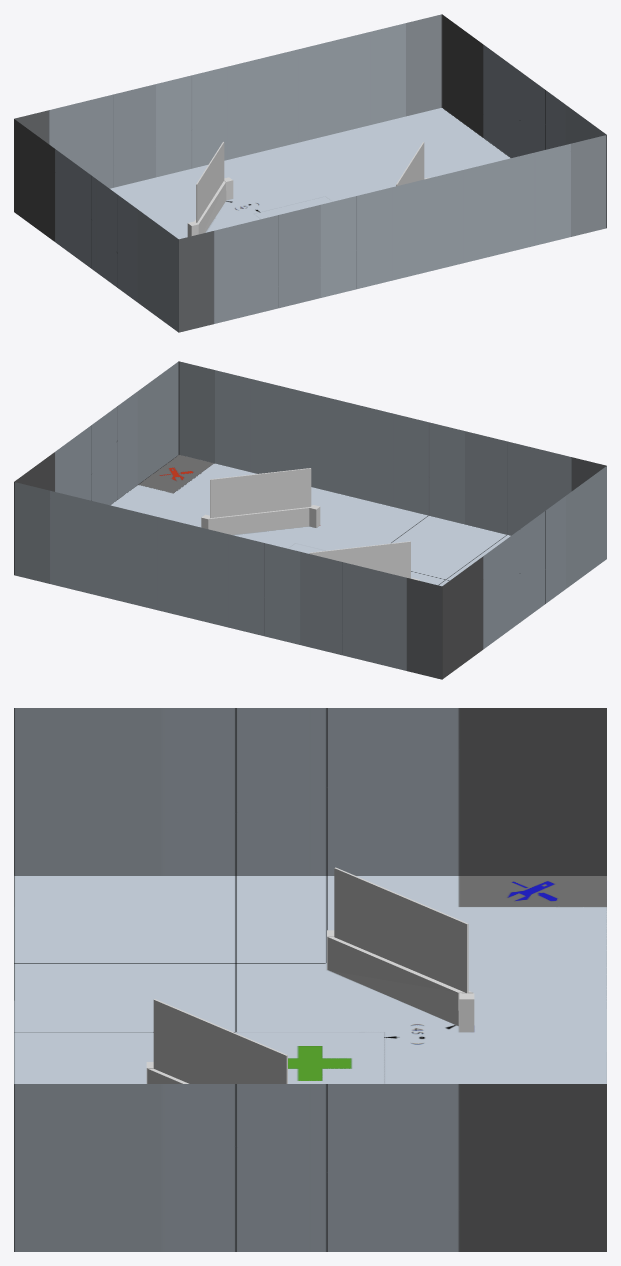
The model's file is 3v3_map.dae.
3 renders of one model, top to bottom at view 1: azimuth 30°, elevation 25°; view 2: azimuth 150°, elevation 25°; view 3: azimuth 270°, elevation 25°, orthographic. The views are drawn at different scales.
Parts seen in each view (by area): view 1: site, 立方体.006, 立方体.005, 立方体.001; view 2: site, 立方体.001, 立方体.006, 立方体.002; view 3: site, 立方体.006, 立方体.001, 立方体.005.
Boxes of the visible parts, <box> form: site: <box>14,14,606,332</box>; 立方体.006: <box>196,142,224,222</box>; 立方体.005: <box>195,181,226,234</box>; 立方体.001: <box>396,142,424,186</box>; site: <box>14,361,606,679</box>; 立方体.001: <box>210,468,311,518</box>; 立方体.006: <box>309,541,410,578</box>; 立方体.002: <box>209,505,311,534</box>; site: <box>14,708,606,1251</box>; 立方体.006: <box>334,867,468,993</box>; 立方体.001: <box>153,999,287,1083</box>; 立方体.005: <box>327,937,472,1026</box>.
Bounding box in the file's own units: 12 × 8 × 2.51.
1 material, 1 textured.
